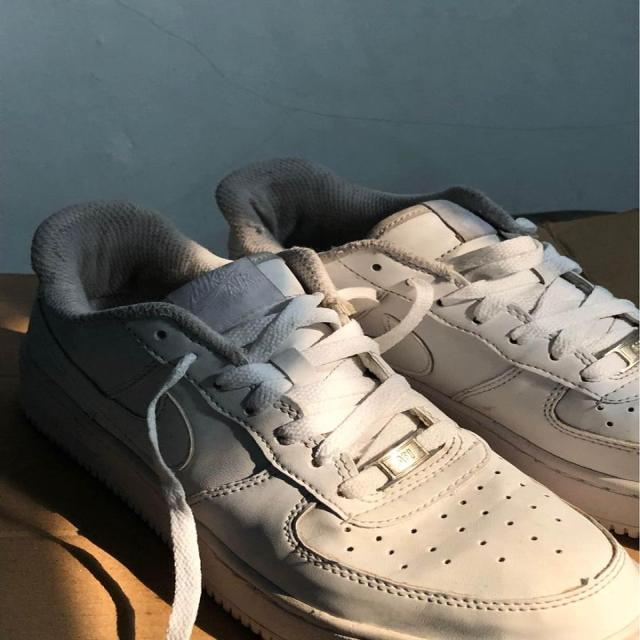nike fake air force: (23, 240, 640, 638), (205, 182, 640, 552)
